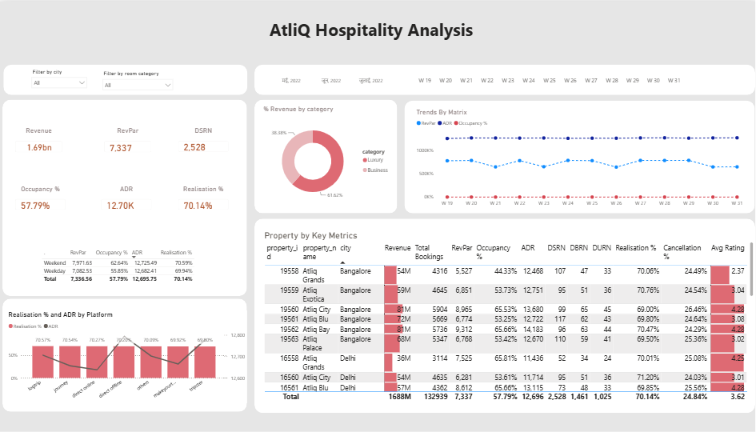

The dashboard page shown, as its layout file describes it:
{"tool":"powerbi","page":{"name":"Page 1","canvas":[1900,1100],"ordinal":0},"visuals":[{"type":"shape","box":[639.6,542,1252,486],"z":0},{"type":"shape","box":[11,743.4,611.4,282.9],"z":1000},{"type":"shape","box":[1015.6,248,876,282],"z":2000},{"type":"shape","box":[639,245.7,357.1,284.3],"z":3000},{"type":"shape","box":[9.6,244.9,611.4,491.4],"z":4000},{"type":"shape","box":[639.6,158,1252,76],"z":5000},{"type":"shape","box":[11.6,158,610,76],"z":6000},{"type":"tableEx","title":"Property by Key Metrics","fields":{"Values":["dim_hotels.property_id","dim_hotels.property_name","dim_hotels.city","key_measures.Revenue","key_measures.Total Bookings","key_measures.RevPar","key_measures.Occupancy %","key_measures.ADR","key_measures.DSRN","key_measures.DBRN","key_measures.DURN","key_measures.Realisation %"]},"box":[660,572,1232,432],"z":7000},{"type":"slicer","fields":{"Values":["dim_hotels.city"]},"box":[71.3,163.7,158.8,61.2],"z":8000},{"type":"slicer","fields":{"Values":["dim_rooms.room_class"]},"box":[249.6,167,196.2,61.2],"z":9000},{"type":"slicer","fields":{"Values":["dim_date.week no"]},"box":[1015.6,168,723.3,60],"z":10000},{"type":"slicer","fields":{"Values":["dim_date.mmm yy"]},"box":[657.1,168.6,346.7,60],"z":11000},{"type":"cardVisual","title":"Revenue","fields":{"Data":["key_measures.Revenue"]},"box":[26.2,312,152.5,81.2],"z":13000},{"type":"donutChart","title":"% Revenue by category","fields":{"Category":["dim_hotels.category"],"Y":["key_measures.Revenue"]},"box":[657.6,257.1,331.4,264.3],"z":14000},{"type":"lineClusteredColumnComboChart","title":"Realisation % and ADR by Platform","fields":{"Category":["fact_bookings (1).booking_platform"],"Y":["key_measures.Realisation %"],"Y2":["key_measures.ADR"]},"box":[20.7,772.3,601.4,231.4],"z":15000},{"type":"lineChart","title":"Trends By Matrix","fields":{"Category":["dim_date.mmm yy.Variation.Date Hierarchy.Month","dim_date.week no"],"Y":["key_measures.RevPar","key_measures.ADR","key_measures.Occupancy %"]},"box":[1039.6,264,836,258],"z":16000},{"type":"tableEx","fields":{"Values":["dim_date.day_type","key_measures.RevPar","key_measures.Occupancy %","key_measures.ADR","key_measures.Realisation %"]},"box":[102.5,612,396,105],"z":17000},{"type":"cardVisual","title":"RevPar","fields":{"Data":["key_measures.RevPar"]},"box":[246.7,313.1,152.5,81.2],"z":20000},{"type":"cardVisual","title":"DSRN","fields":{"Data":["key_measures.DSRN"]},"box":[433,312,160.2,80.7],"z":22000},{"type":"cardVisual","title":"Occupancy %","fields":{"Data":["key_measures.Occupancy %"]},"box":[25.7,456.3,160.2,80.7],"z":24000},{"type":"cardVisual","title":"ADR","fields":{"Data":["key_measures.ADR"]},"box":[241.2,457.4,160.2,80.7],"z":26000},{"type":"cardVisual","title":"Realisation %","fields":{"Data":["key_measures.Realisation %"]},"box":[432.3,456.3,160.2,80.7],"z":28000},{"type":"textbox","box":[672,34,556,78],"z":29000}]}

Visuals, with their boxes in screenshot pixels (x1, y1, x2, y2), scaled from the page's 1900x1100 canvas onto the 756x432 screenshot:
shape: x1=254 y1=213 x2=753 y2=404
shape: x1=4 y1=292 x2=248 y2=403
shape: x1=404 y1=97 x2=753 y2=208
shape: x1=254 y1=96 x2=396 y2=208
shape: x1=4 y1=96 x2=247 y2=289
shape: x1=254 y1=62 x2=753 y2=92
shape: x1=5 y1=62 x2=247 y2=92
"Property by Key Metrics" tableEx: x1=263 y1=225 x2=753 y2=394
slicer - dim_hotels.city: x1=28 y1=64 x2=92 y2=88
slicer - dim_rooms.room_class: x1=99 y1=66 x2=177 y2=90
slicer - dim_date.week no: x1=404 y1=66 x2=692 y2=90
slicer - dim_date.mmm yy: x1=261 y1=66 x2=399 y2=90
"Revenue" cardVisual: x1=10 y1=123 x2=71 y2=154
"% Revenue by category" donutChart: x1=262 y1=101 x2=394 y2=205
"Realisation % and ADR by Platform" lineClusteredColumnComboChart: x1=8 y1=303 x2=248 y2=394
"Trends By Matrix" lineChart: x1=414 y1=104 x2=746 y2=205
tableEx - dim_date.day_type x key_measures.RevPar: x1=41 y1=240 x2=198 y2=282
"RevPar" cardVisual: x1=98 y1=123 x2=159 y2=155
"DSRN" cardVisual: x1=172 y1=123 x2=236 y2=154
"Occupancy %" cardVisual: x1=10 y1=179 x2=74 y2=211
"ADR" cardVisual: x1=96 y1=180 x2=160 y2=211
"Realisation %" cardVisual: x1=172 y1=179 x2=236 y2=211
textbox: x1=267 y1=13 x2=489 y2=44
